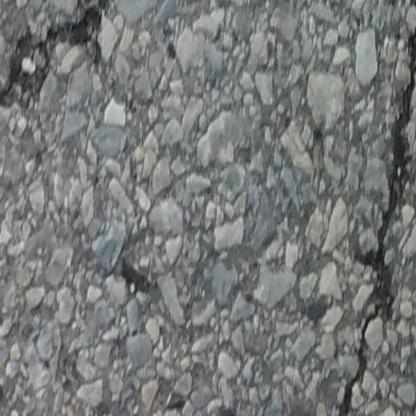Cracks: (329, 0, 416, 416), (0, 0, 132, 131)
